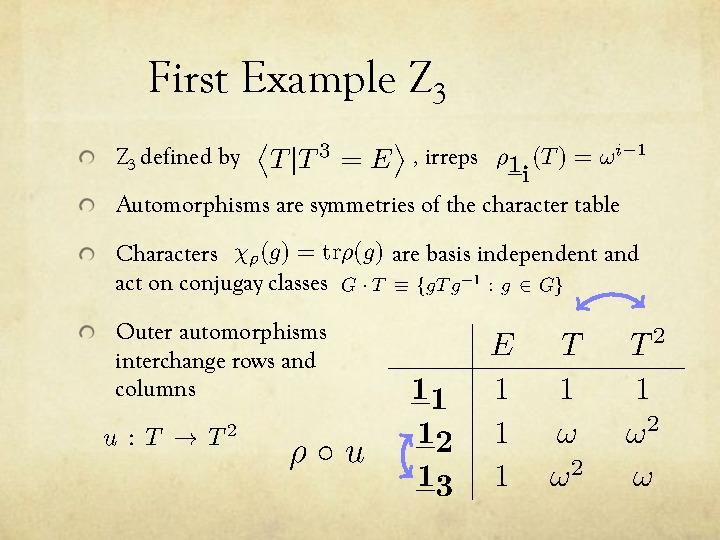paragraph: (59, 121, 700, 508)
title: (129, 37, 474, 112)
